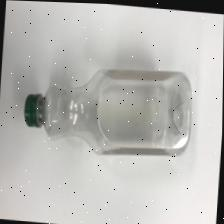plastic: (23, 68, 193, 156)
